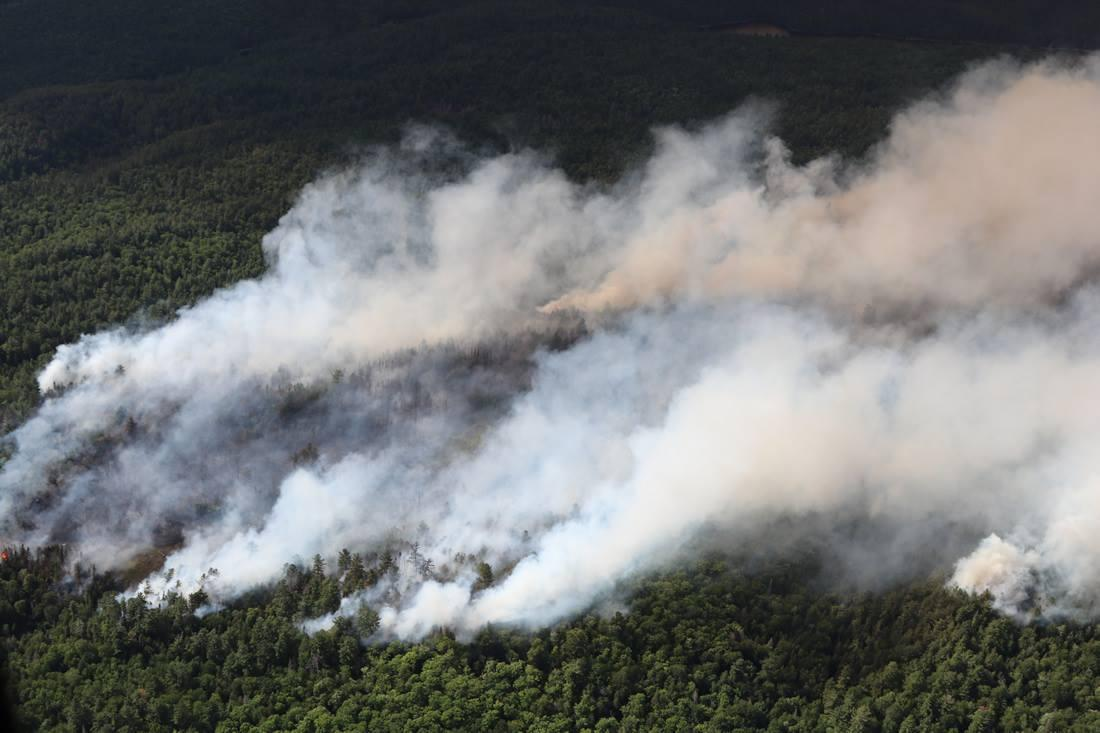smoke: (378, 338, 866, 636), (38, 159, 577, 395), (111, 447, 401, 611), (945, 499, 1092, 601)
